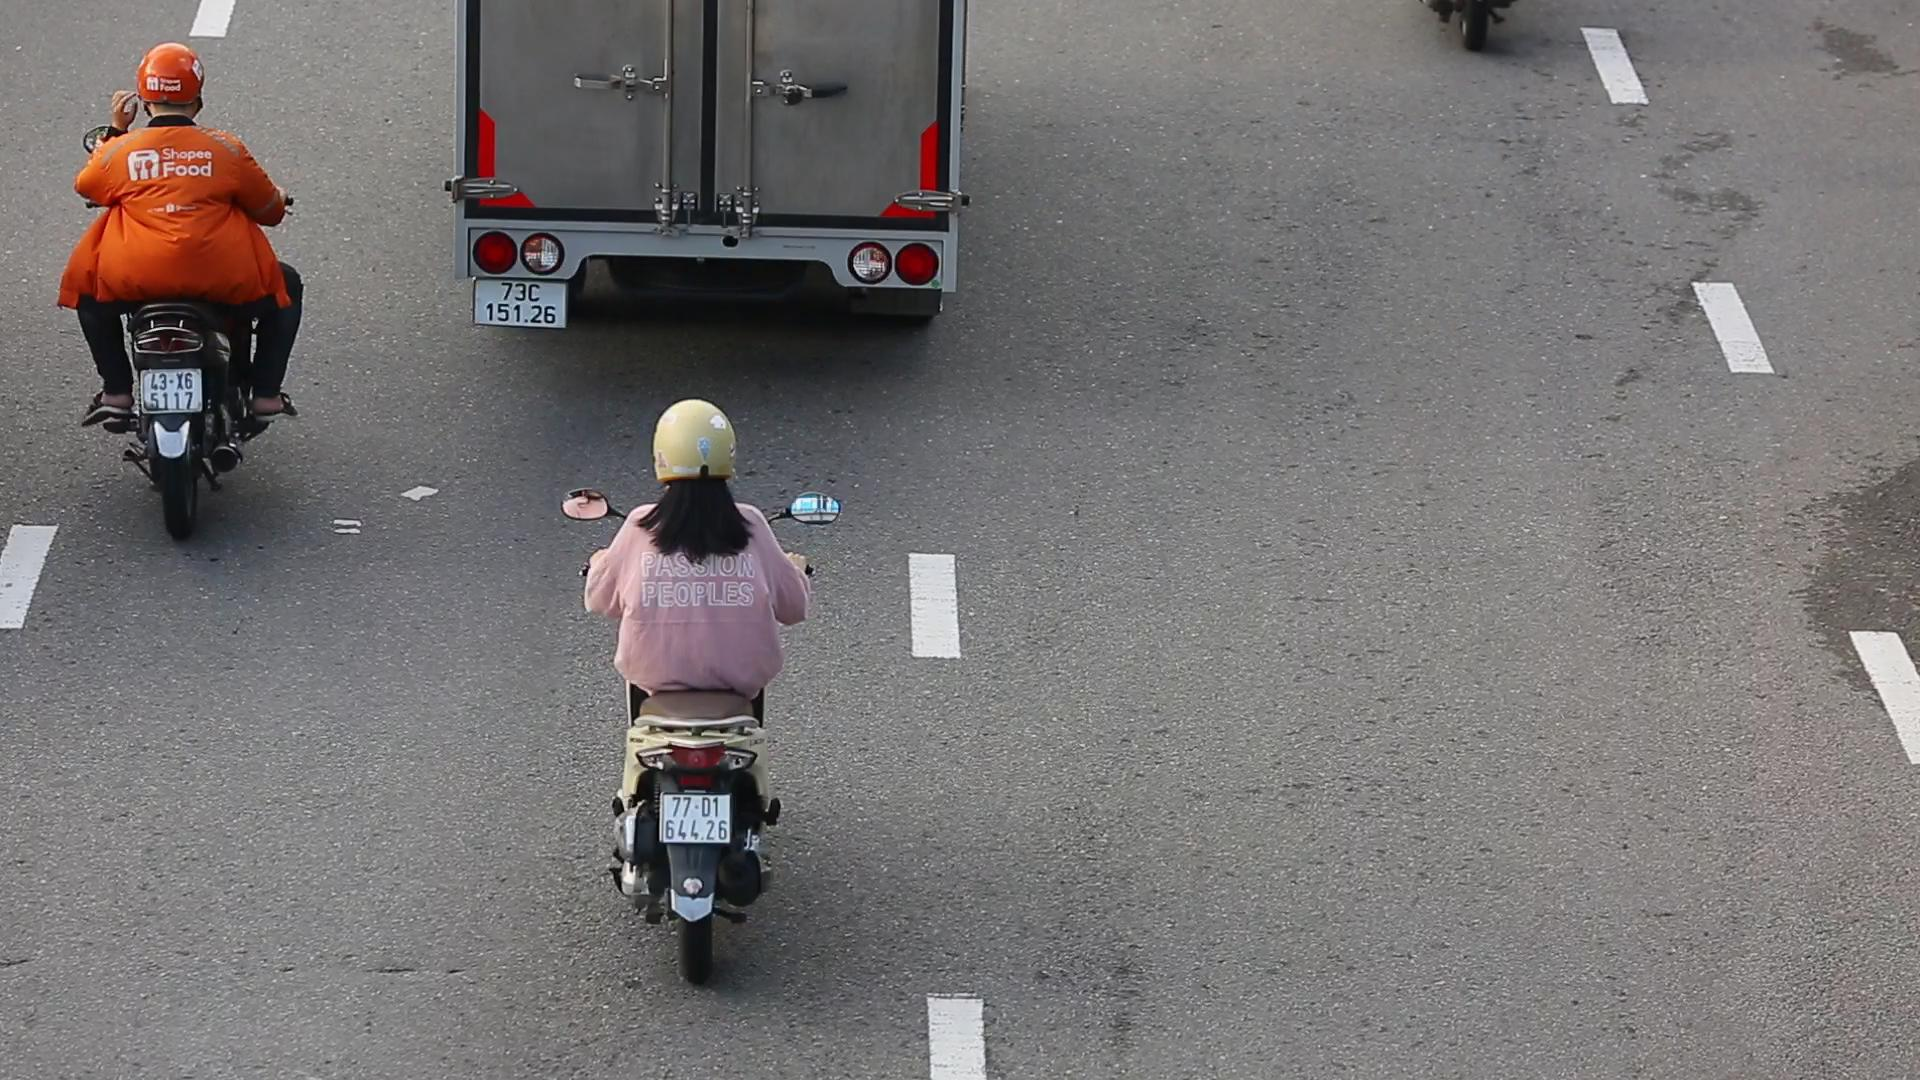motobike: (562, 380, 832, 977), (63, 34, 320, 553)
